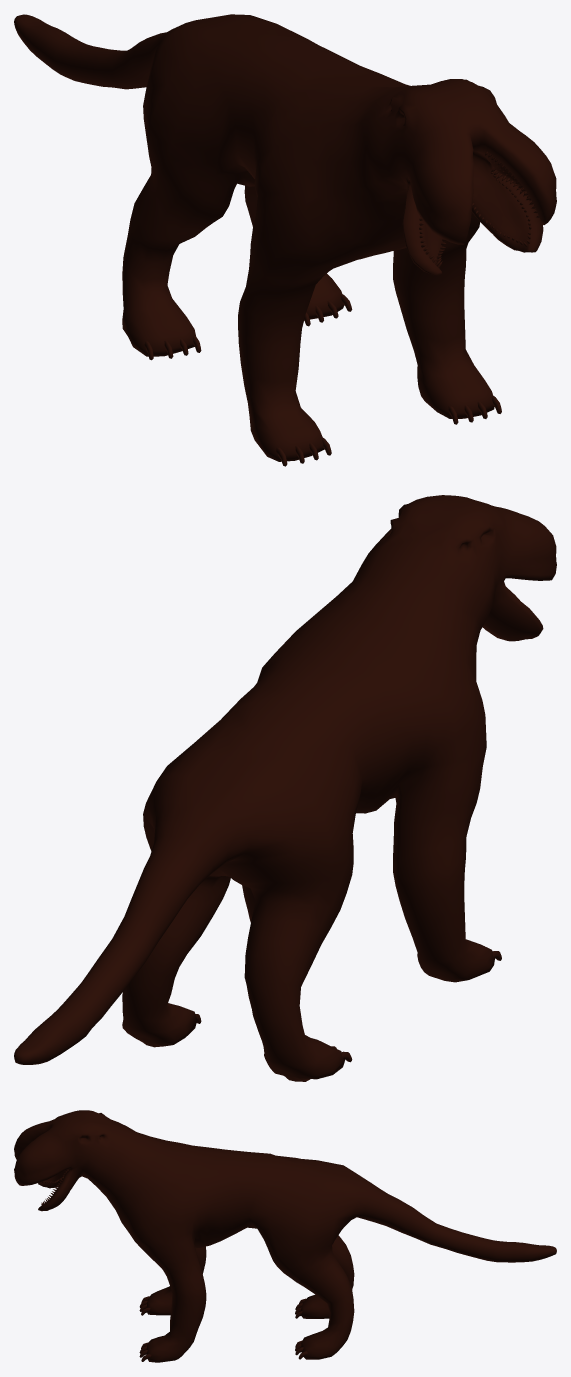
File: blood_dog1.fbx
3 views of the same model, one above another, from view 1: azimuth 30°, elevation 25°; view 2: azimuth 150°, elevation 25°; view 3: azimuth 270°, elevation 25° (orthographic). The views are drawn at different scales.
Visible parts, largest first — view 1: low, kogti, zuby; view 2: low; view 3: low, kogti.
Boxes of the visible parts, x1,y1,x2,y2 form: low: [14, 14, 556, 461]; kogti: [144, 294, 501, 466]; zuby: [419, 151, 539, 267]; low: [14, 495, 556, 1081]; low: [14, 1110, 556, 1362]; kogti: [139, 1296, 307, 1361].
Bounding box in the file's own units: 131 × 219 × 492.
